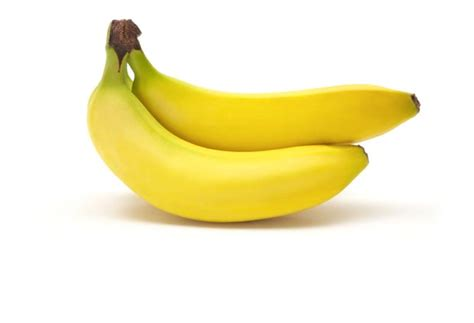banana: (84, 75, 373, 225), (127, 65, 424, 162)
